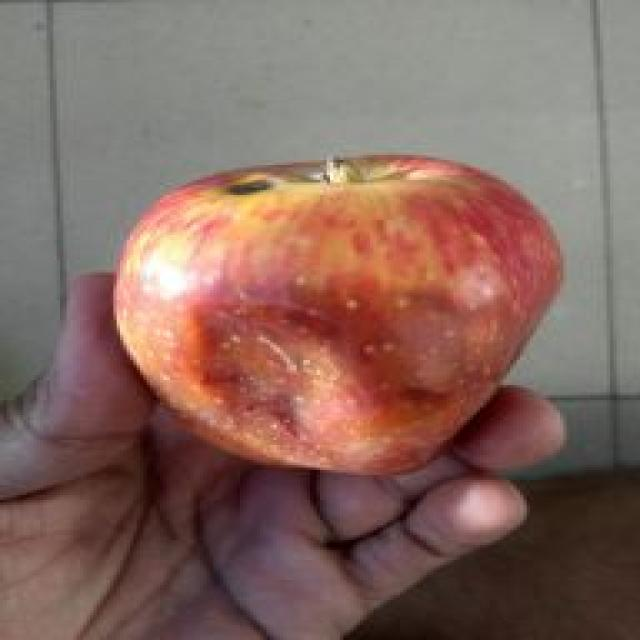Bad_Apple: (117, 156, 562, 473)
